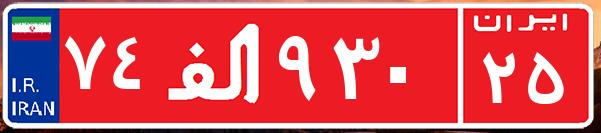0: (385, 28, 445, 110)
2: (475, 38, 525, 113)
3: (330, 28, 385, 110)
4: (110, 28, 158, 105)
5: (525, 38, 570, 115)
7: (57, 26, 110, 107)
9: (273, 28, 330, 110)
الف: (158, 15, 273, 115)
